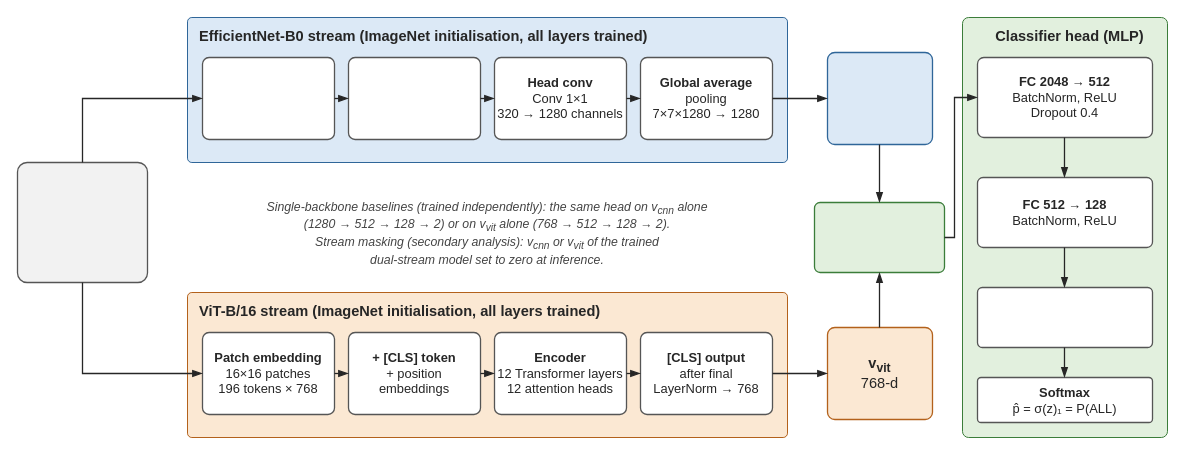
Some shapes in this 1186 by 455 pixel diagram are drawn without their labels. The centre of each missing label's shape, as x and y in pixels:
"Concatenation F = v cnn ⊕ v vit 2048-d" belongs at (879,237).
"FC 128 → 2 logits z" belongs at (1064,317).
"Input cell image 3 × 224 × 224 RGB, ImageNet normalisation" belongs at (82,222).
"MBConv blocks 16 blocks, 7 stages (depthwise + SE)" belongs at (414,98).
"Stem Conv 3×3, stride 2 32 channels" belongs at (268,98).
"v cnn 1280-d" belongs at (879,98).
